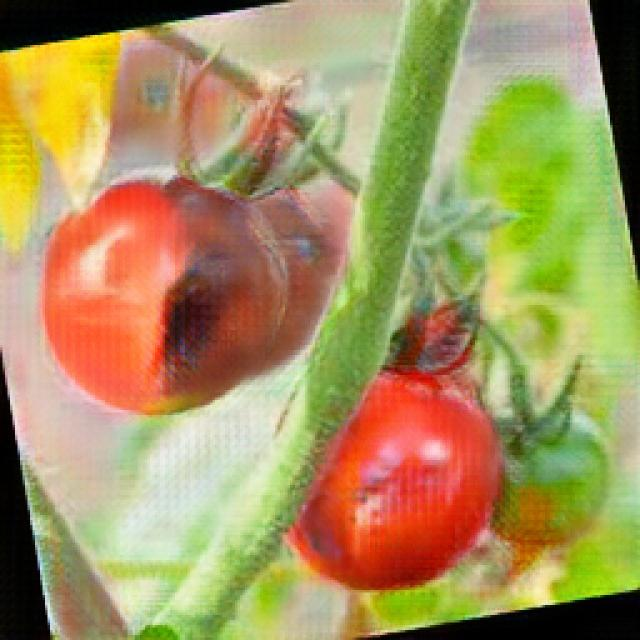overripe tomato: (44, 171, 286, 421), (278, 368, 502, 598)
